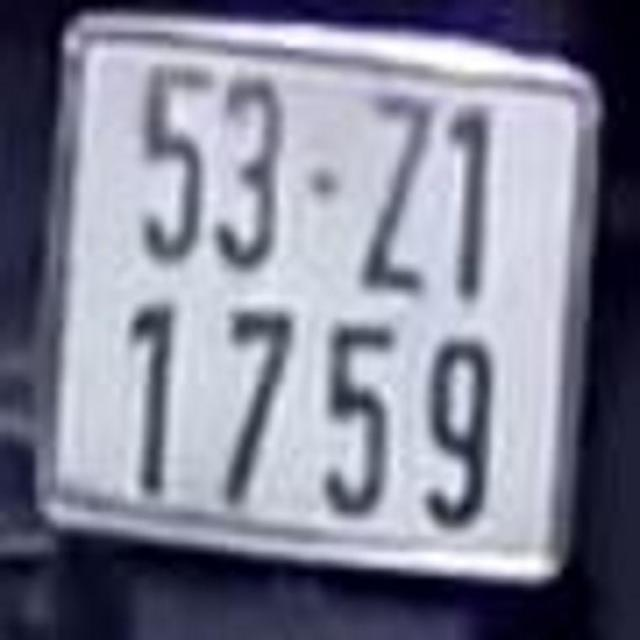1: (438, 90, 501, 303), (122, 283, 177, 496)
3: (218, 62, 285, 274)
5: (320, 312, 400, 525), (138, 57, 211, 258)
7: (219, 289, 296, 513)
9: (420, 323, 495, 536)
Z: (360, 76, 436, 298)
